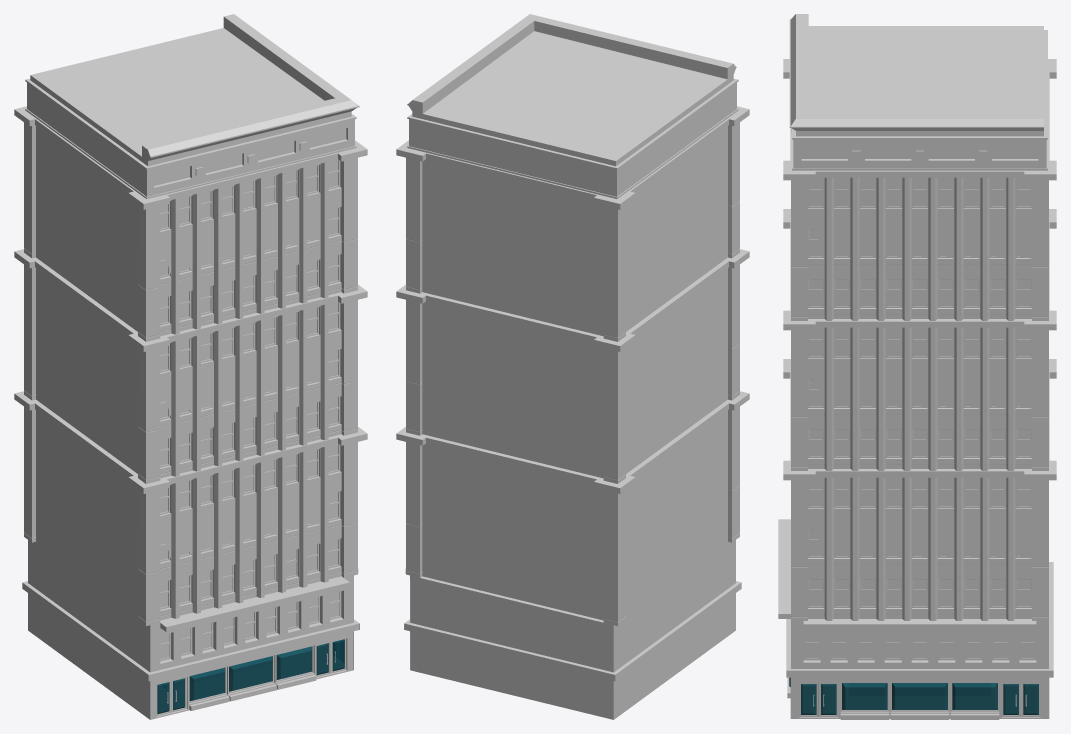
Rendered from building_office_corner_01_large.fbx.
The picture shows the model from 3 angles, left to right: view 1: azimuth 30°, elevation 25°; view 2: azimuth 150°, elevation 25°; view 3: azimuth 270°, elevation 25°; orthographic projection. The views are drawn at different scales.
Parts seen in each view (by area): view 1: building_office_corner_01_large, building_office_corner_01_floor_large_glass; view 2: building_office_corner_01_large; view 3: building_office_corner_01_large, building_office_corner_01_floor_large_glass.
Boxes of the visible parts, x1=… form: building_office_corner_01_large: x1=14, y1=14, x2=367, y2=719; building_office_corner_01_floor_large_glass: x1=157, y1=639, x2=344, y2=714; building_office_corner_01_large: x1=396, y1=14, x2=749, y2=719; building_office_corner_01_large: x1=778, y1=14, x2=1056, y2=719; building_office_corner_01_floor_large_glass: x1=789, y1=677, x2=1038, y2=714.
Bounding box in the file's own units: 1982 × 4800 × 2017.
